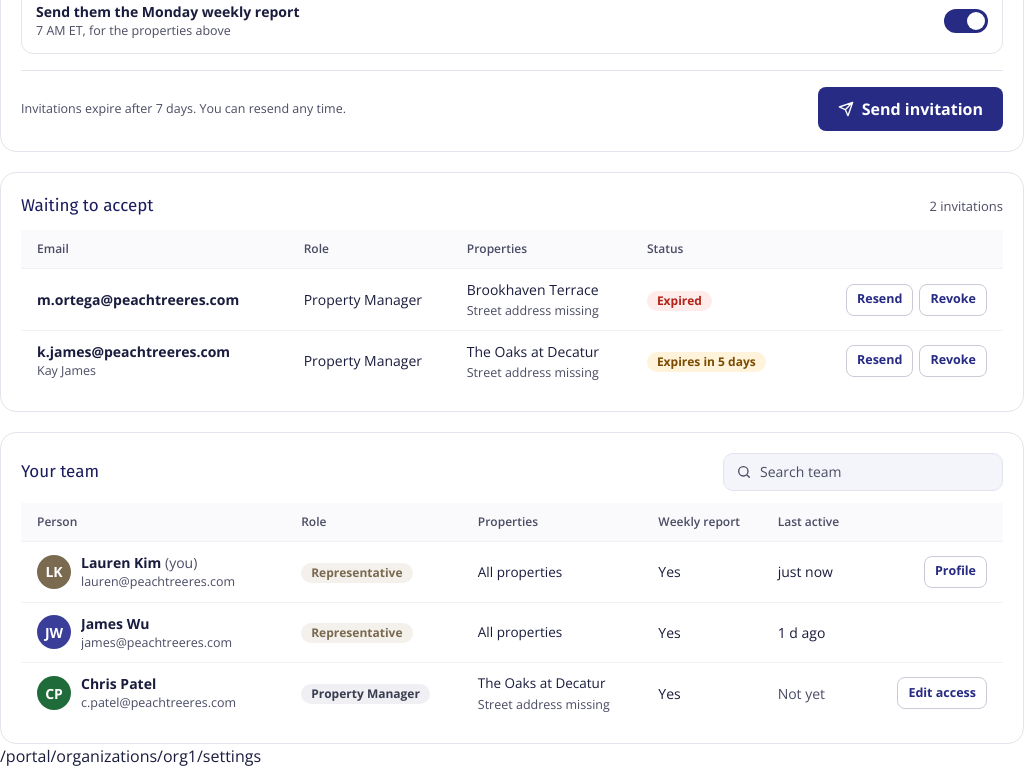
Test: TeamSettingsPage › edits a manager's properties and weekly report
The image size is (1024, 768).
(page scrolled)
Click the button with aria-label "Edit access for Chris Patel": {"x": 942, "y": 693} [897,677,987,709]
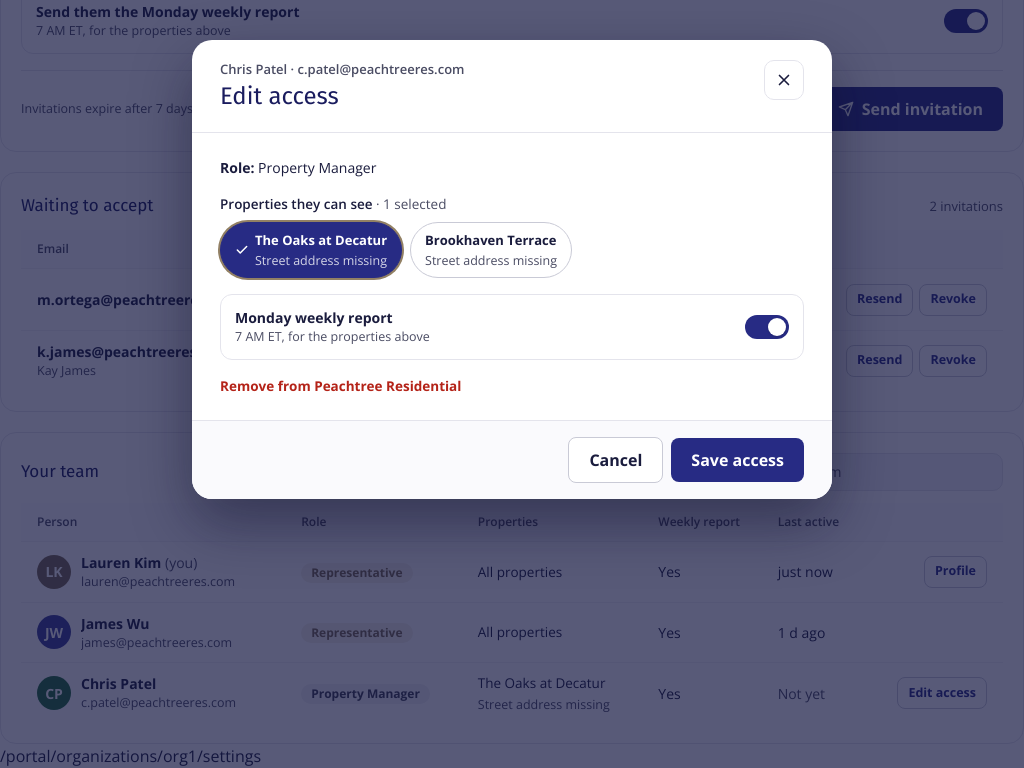
Click the checkbox labelled "Brookhaven Terrace Street address missing": {"x": 491, "y": 250} [410,222,572,278]
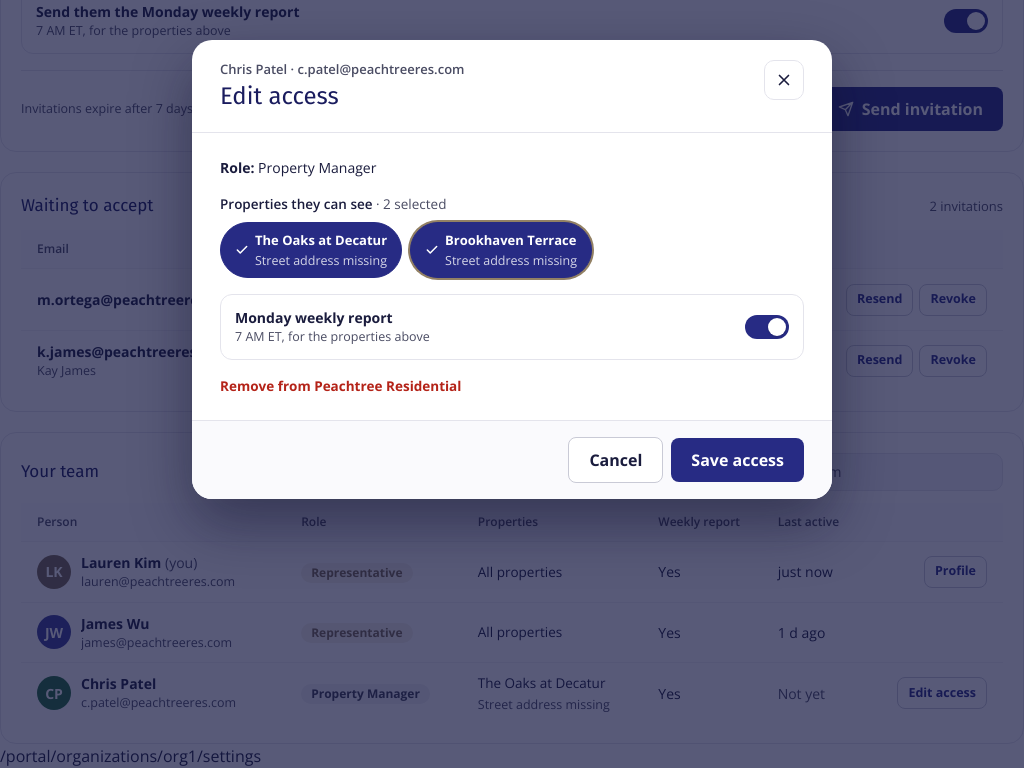
Click the switch named "Monday weekly report": {"x": 767, "y": 327} [745,315,789,339]
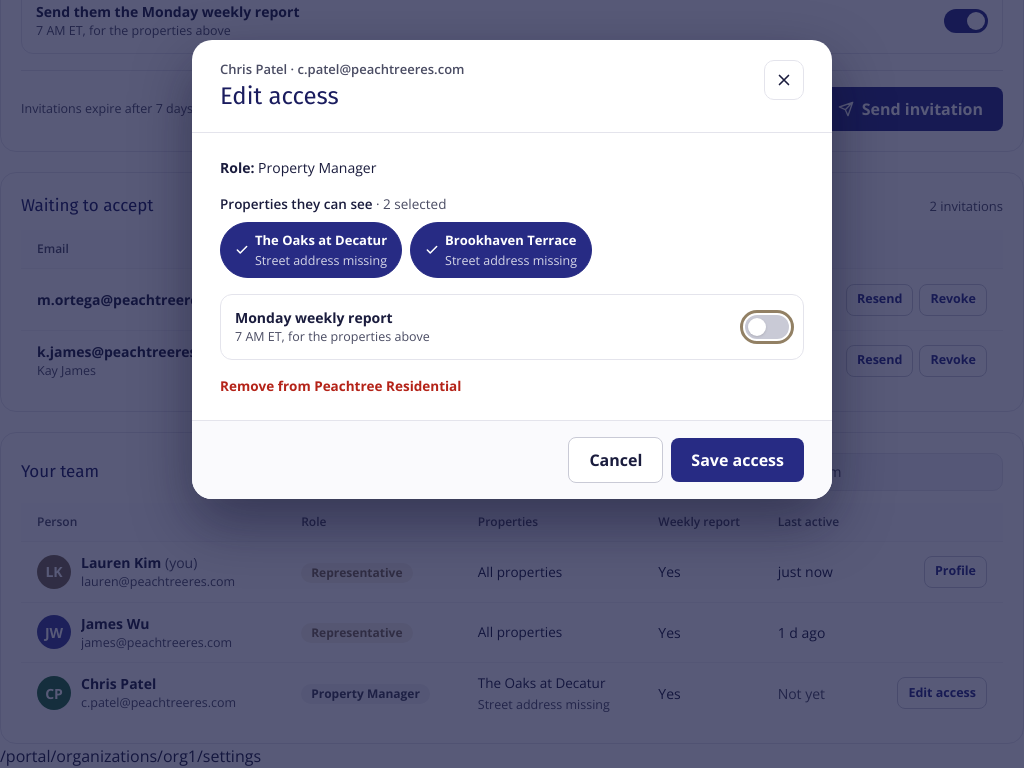
Click the button "Save access": {"x": 738, "y": 460} [671,438,804,482]
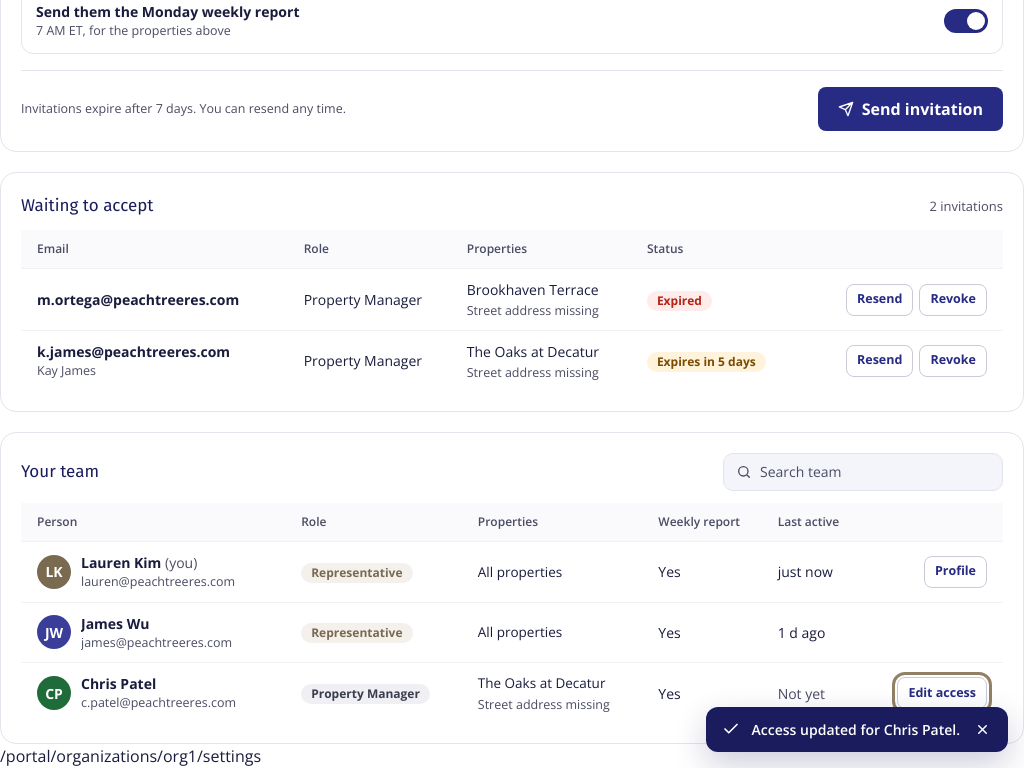
Expected: the text "Access updated for Chris Patel." is shown, [752,719,960,740]
